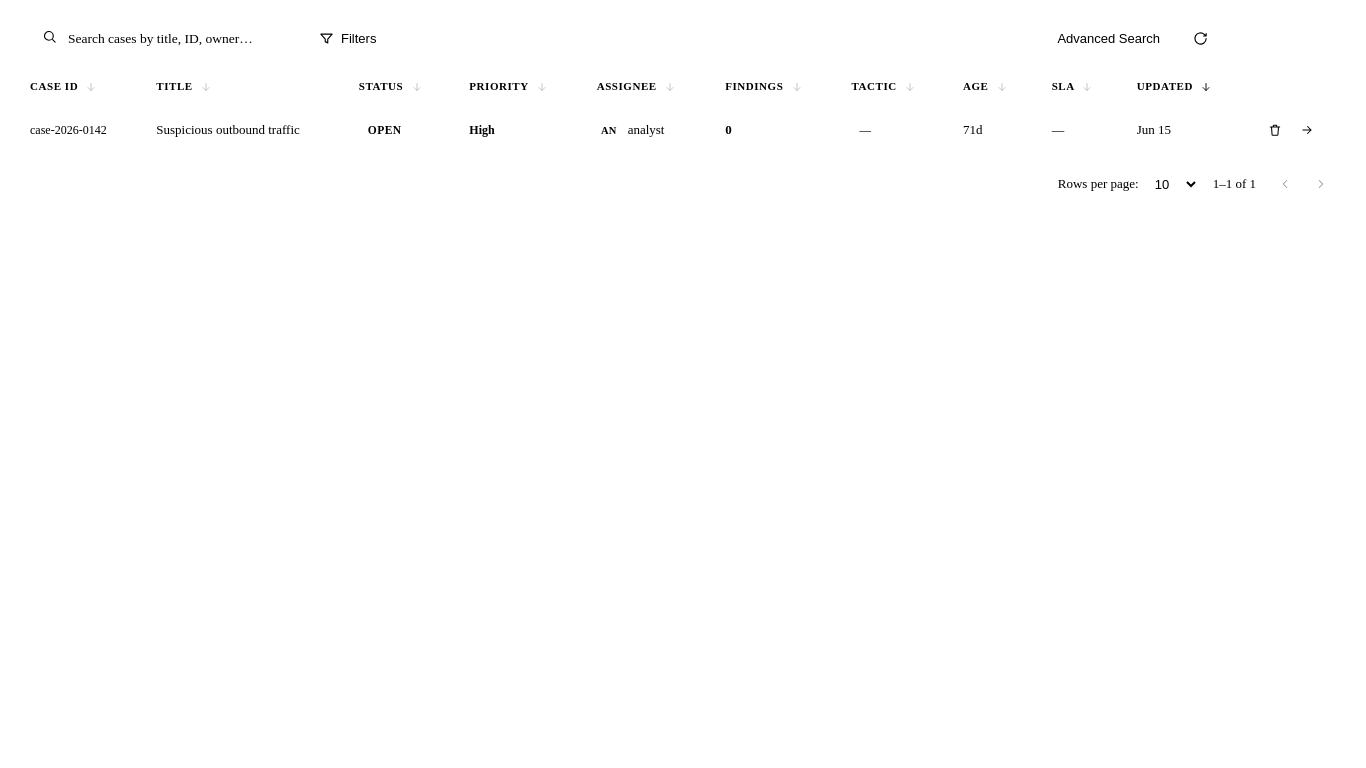
case deletion › requires confirmation and supports cancellation
The image size is (1366, 768).
Click the button named "Delete case case-2026-0142" at (1275,130), box [1261,116,1289,144]
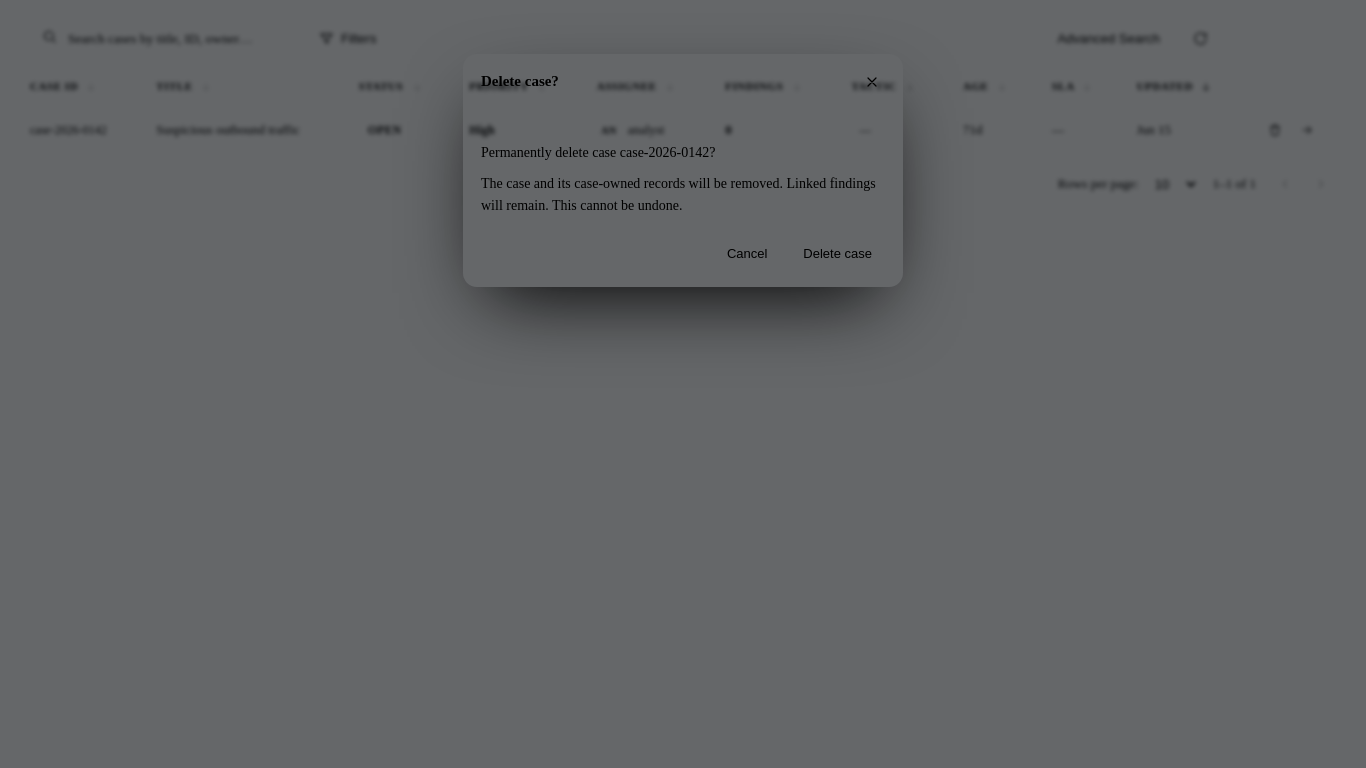
Expected: the dialog "Delete case?" is shown, [463,54,903,287]
Click the button "Cancel" at (747,254), box [714,238,780,269]
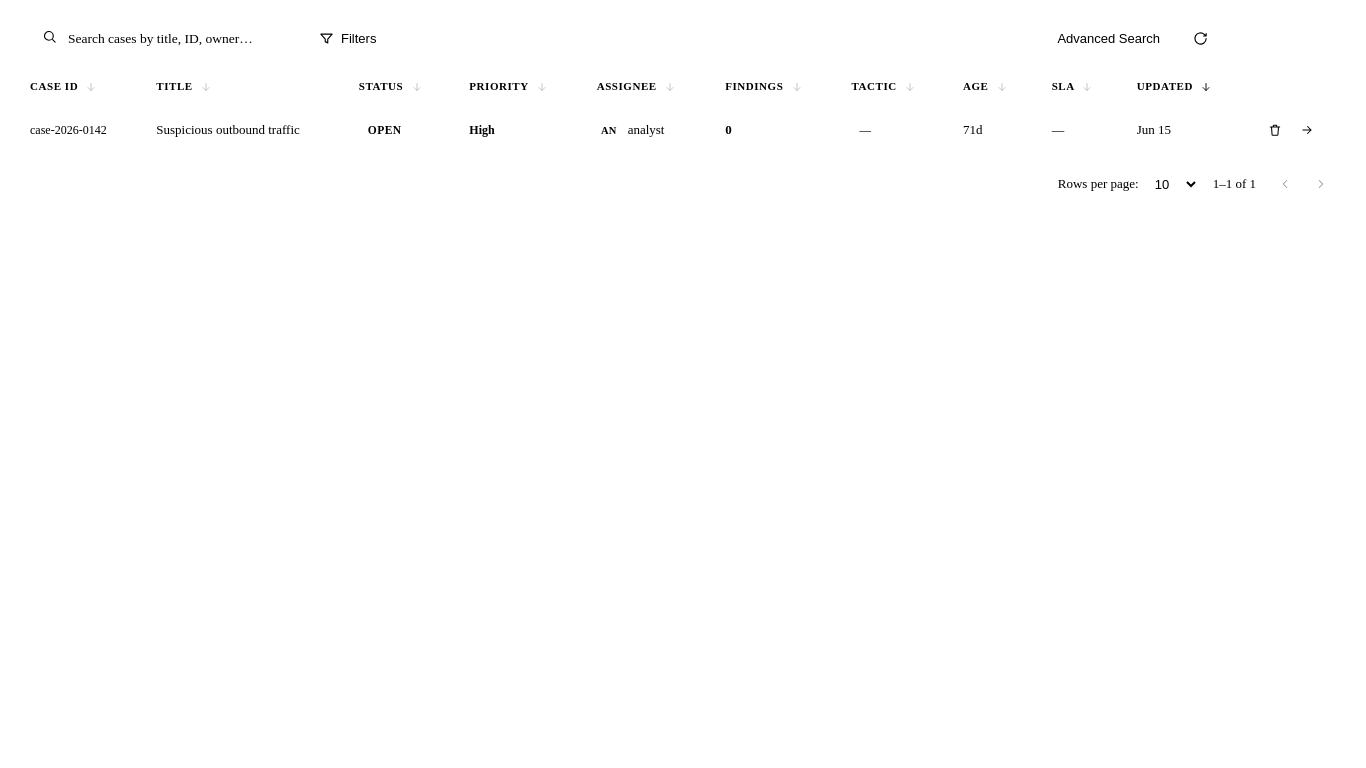
Expected: the text "Suspicious outbound traffic" is shown, [140,104,343,156]
Expected: the heading "Delete case?" is gone
